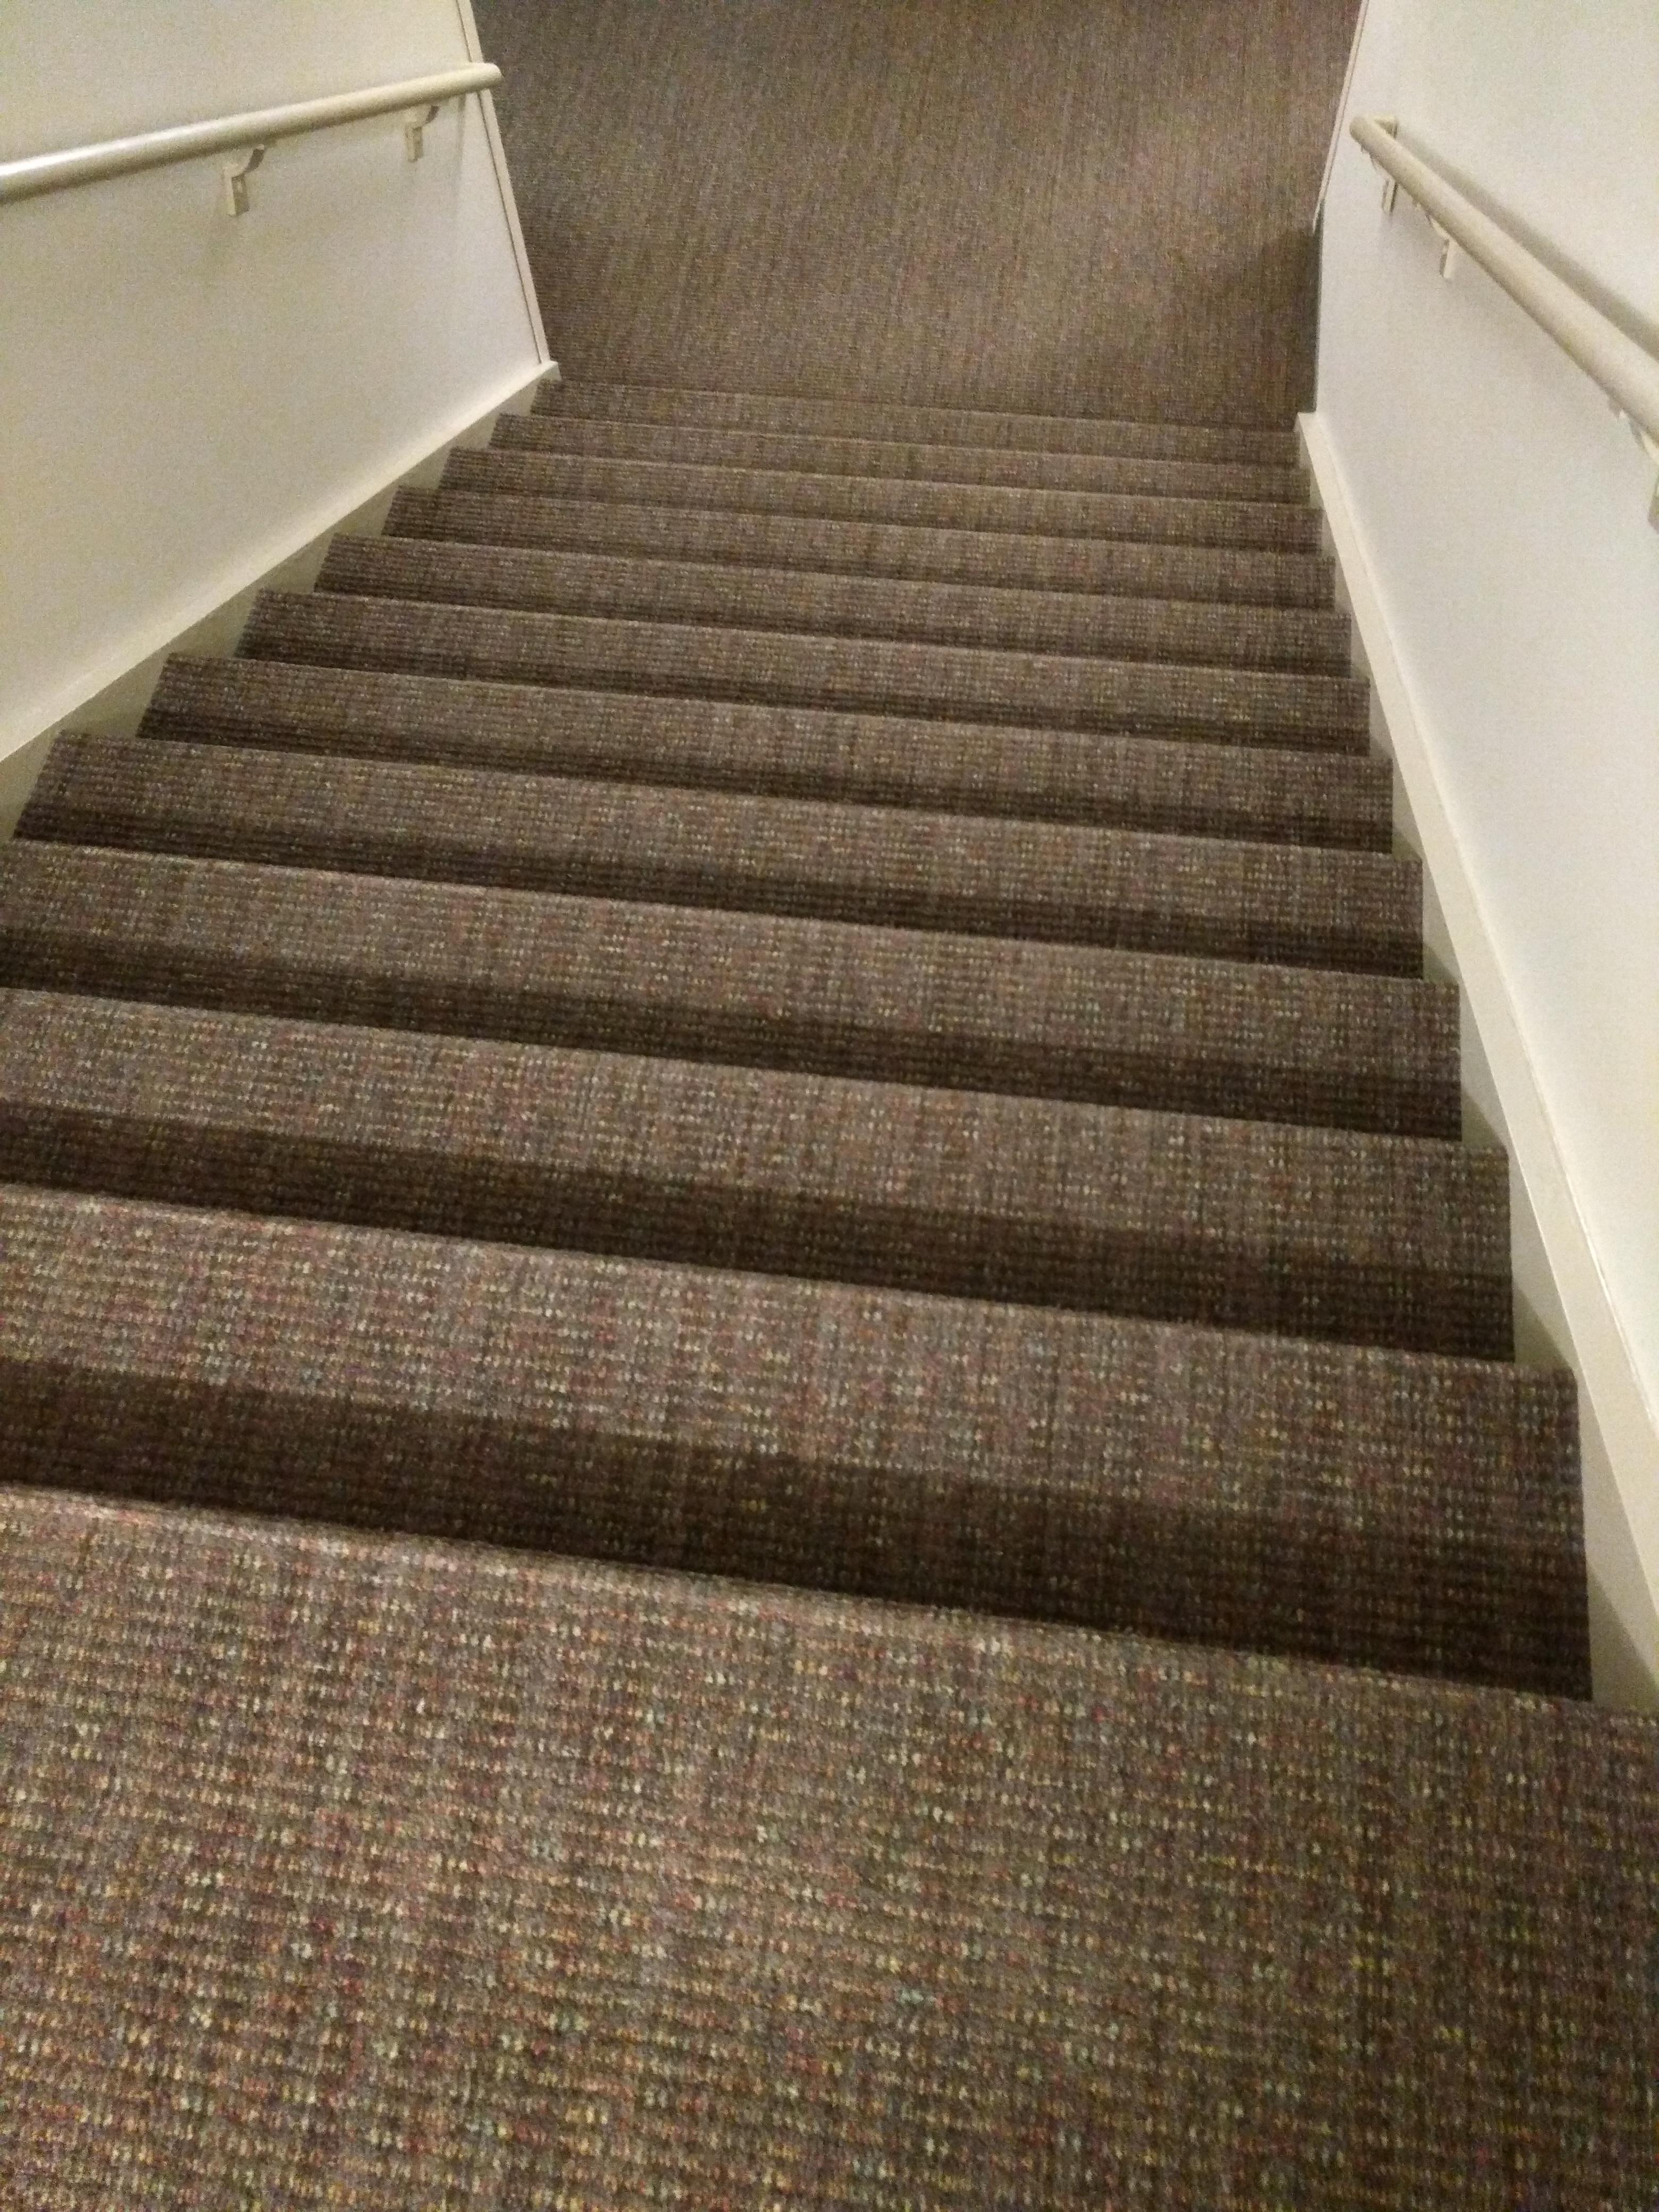stairs_down: (5, 354, 1659, 1851)
